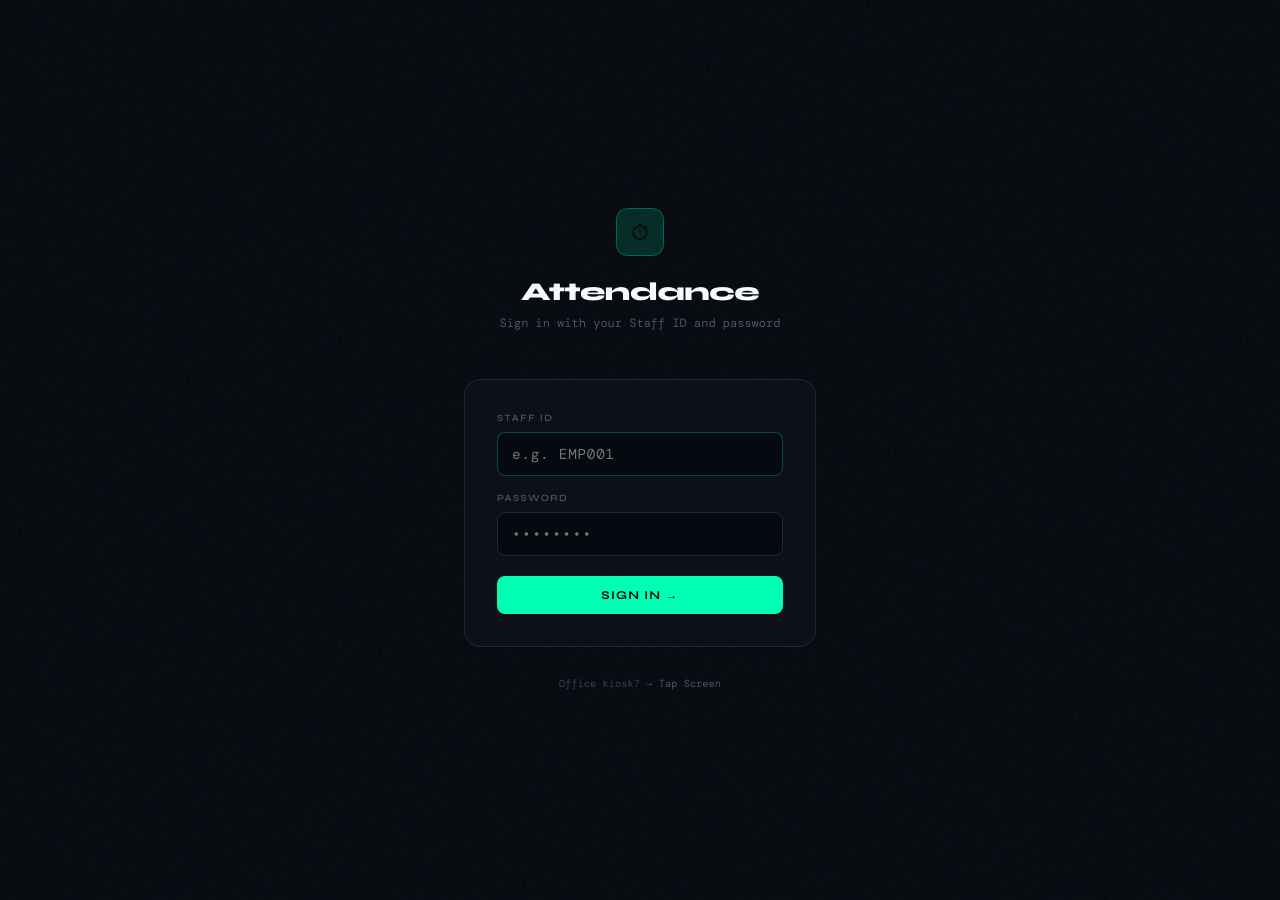
Test case: LoginPage › shows an error when login fails
Type "EMP001" into the field with placeholder "e.g. EMP001" at (640, 454), box [497,432,783,476]
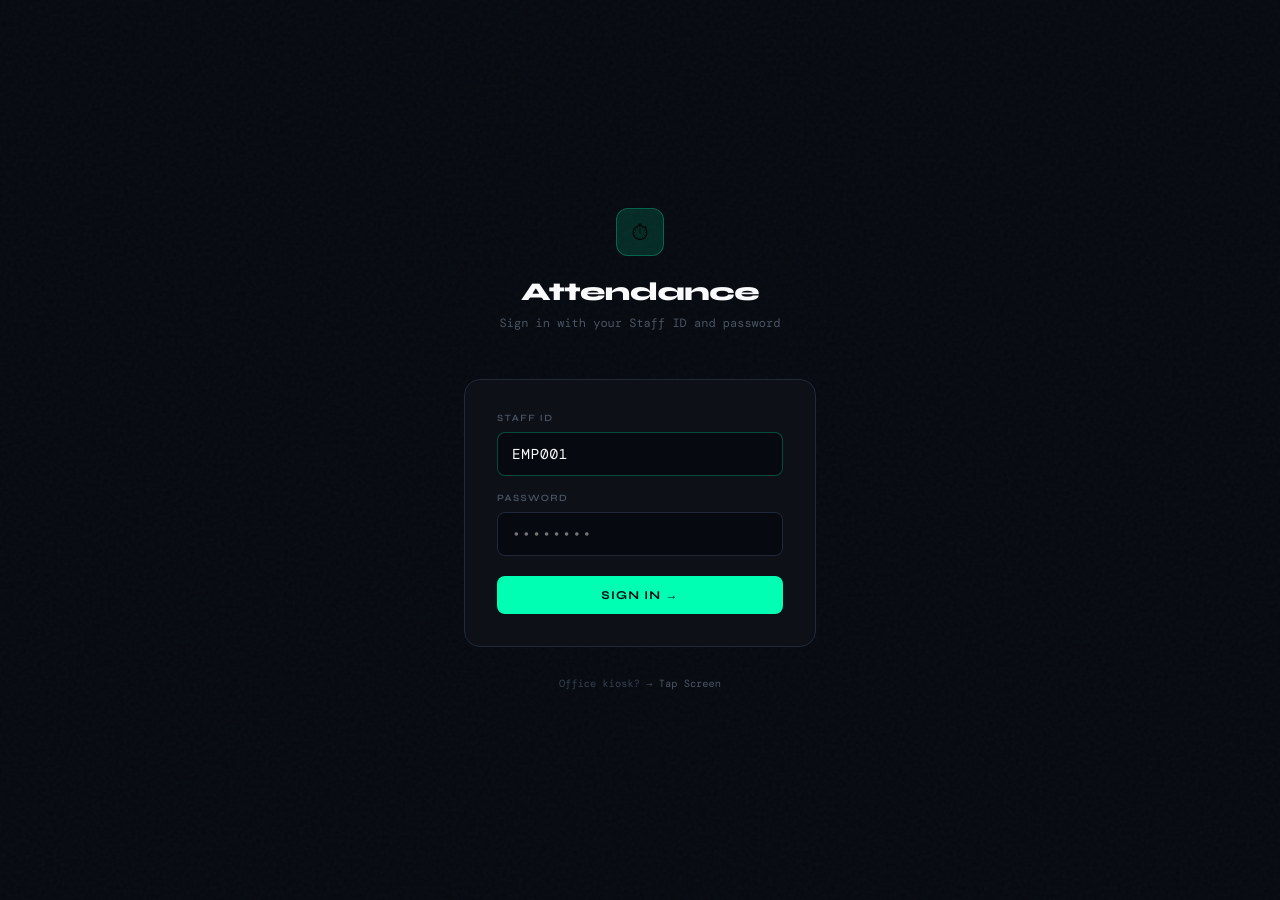
Type "bad-password" into the password field with placeholder "••••••••" at (640, 534), box [497,512,783,556]
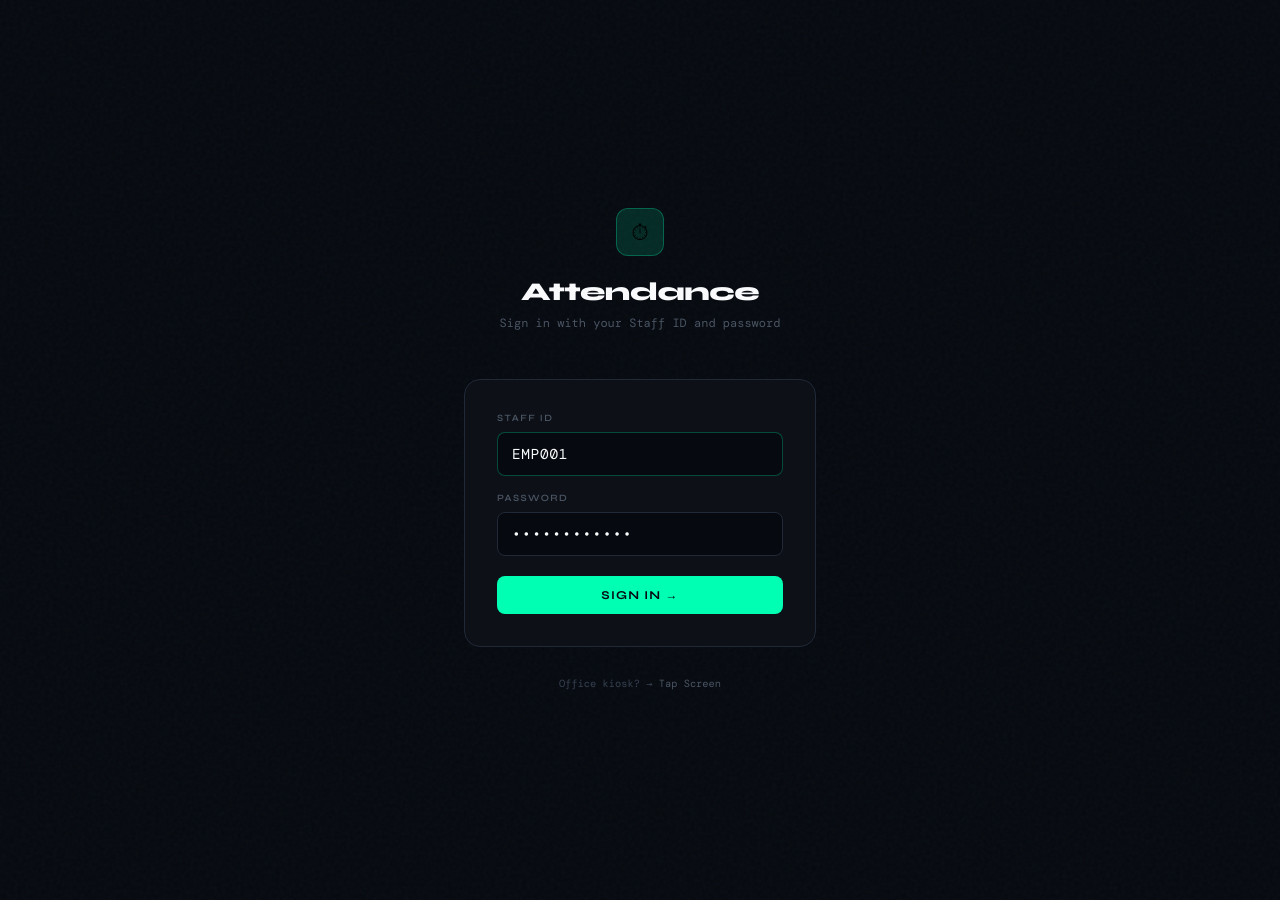
Click the button "Sign In →" at (640, 595), box [497,576,783,614]
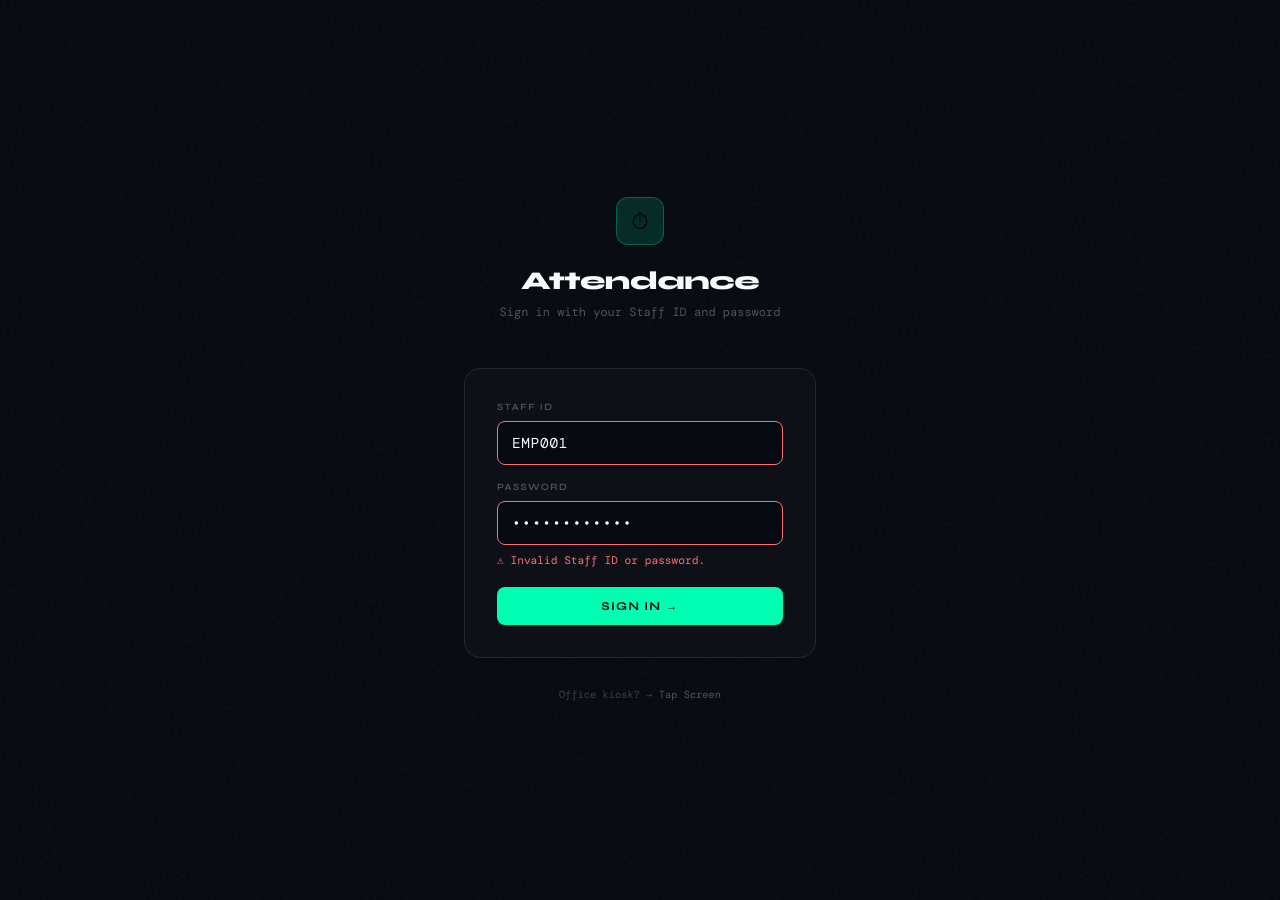
Expected: the text "⚠ Invalid Staff ID or password." is shown, [497,553,705,567]
